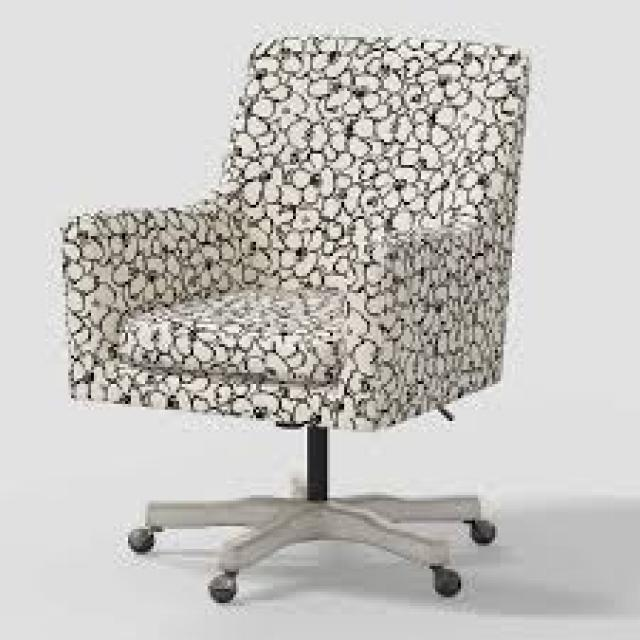chair: (59, 30, 538, 612)
